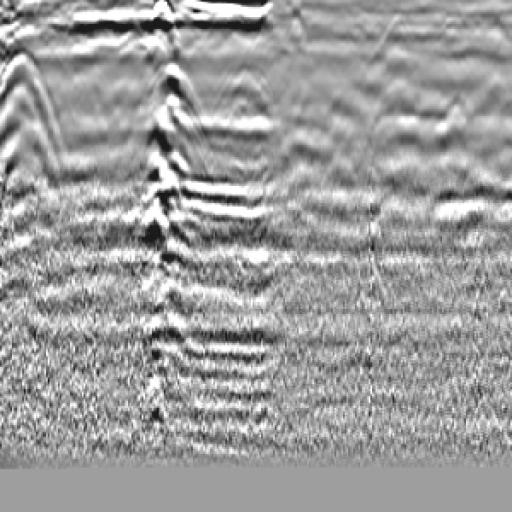metalic: (128, 45, 209, 366)
nonmetalic: (1, 28, 76, 230), (200, 67, 302, 189)
